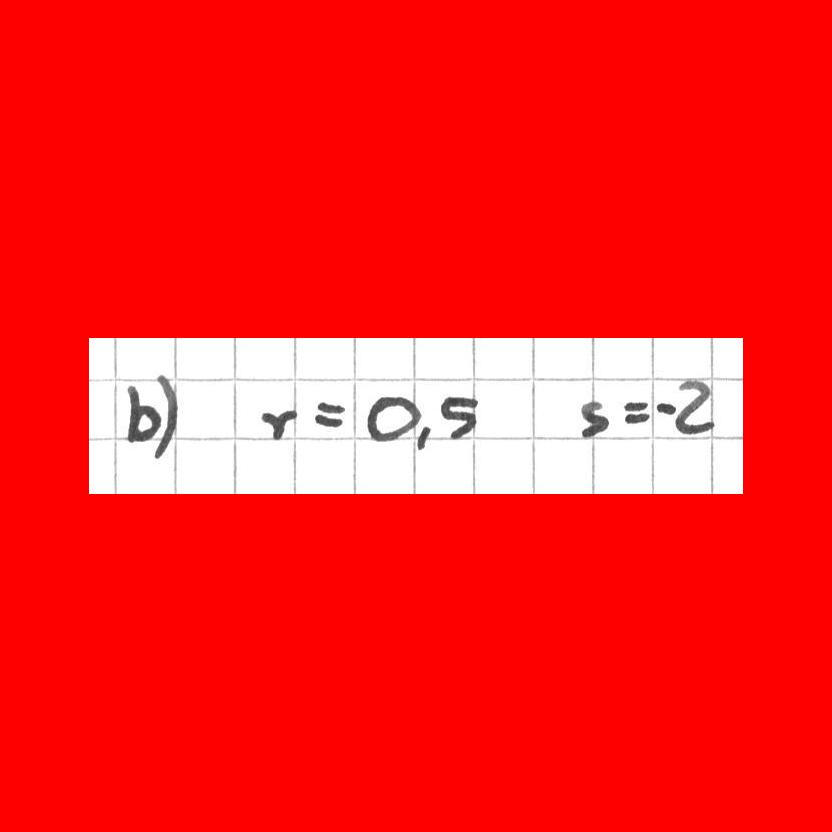Char: (671, 378, 716, 438), (124, 376, 162, 447), (366, 394, 422, 440), (153, 369, 181, 461), (436, 393, 482, 441), (576, 396, 612, 441), (259, 403, 298, 443), (311, 396, 347, 430), (620, 397, 650, 426), (413, 422, 432, 453), (654, 398, 675, 418)
